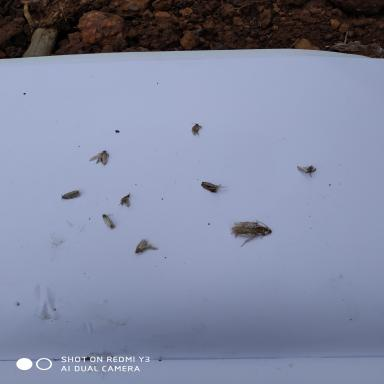pbw: (89, 149, 110, 167), (132, 239, 159, 253), (102, 214, 115, 230), (61, 189, 79, 200), (200, 183, 218, 192), (190, 122, 202, 135), (202, 181, 218, 187)
